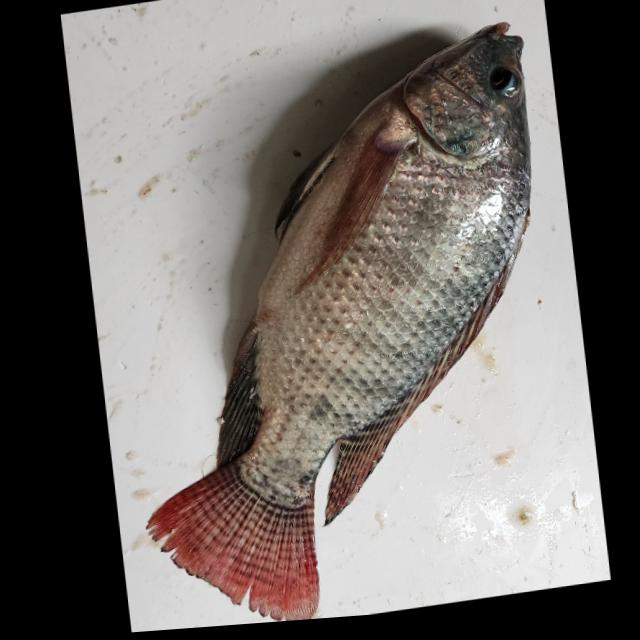Tilapia: (93, 12, 588, 633)
